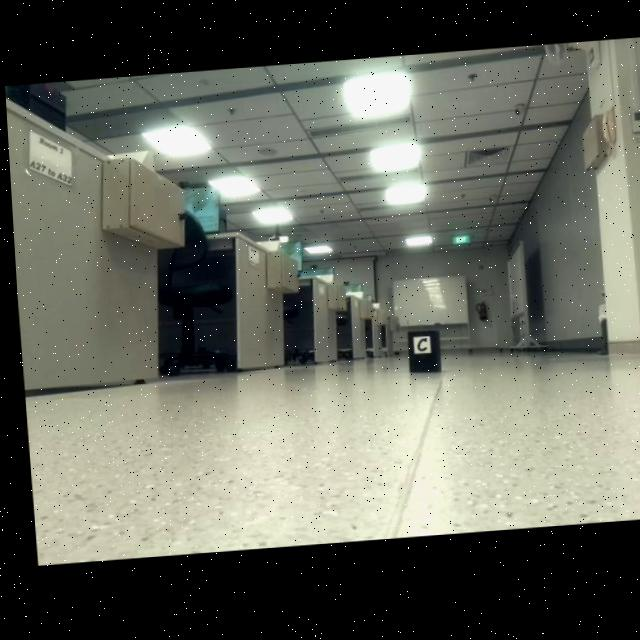C: (411, 343, 424, 357), (411, 343, 423, 357)
